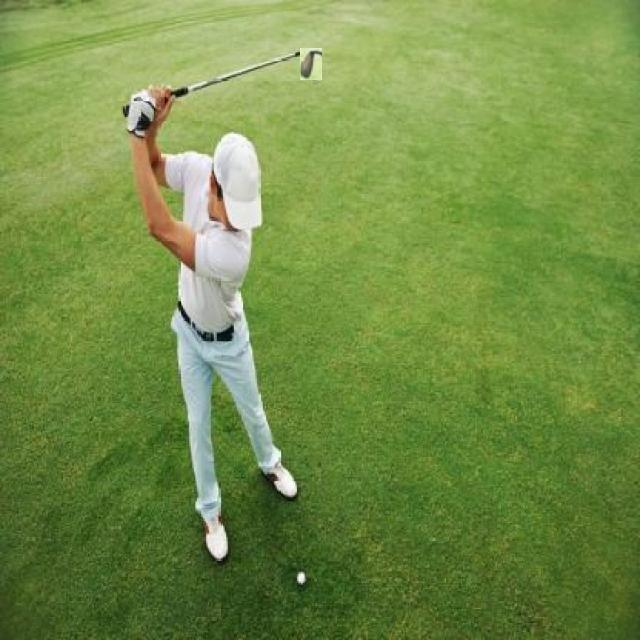club head: (300, 48, 322, 80)
